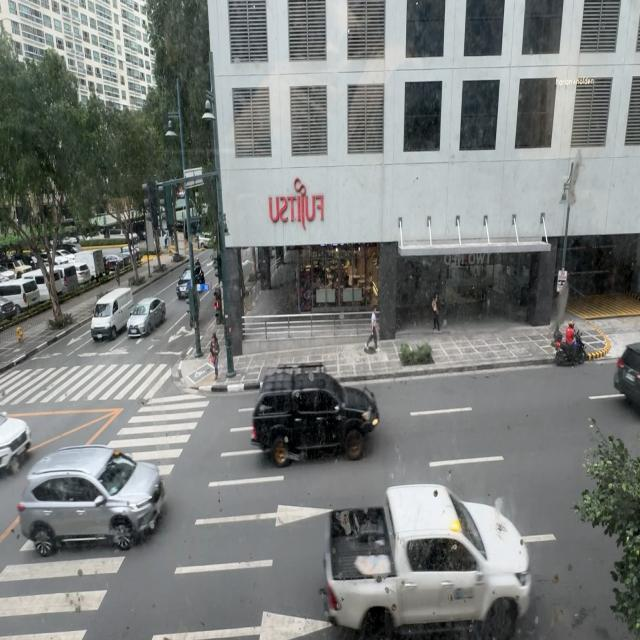waiting: (210, 332, 220, 378)
